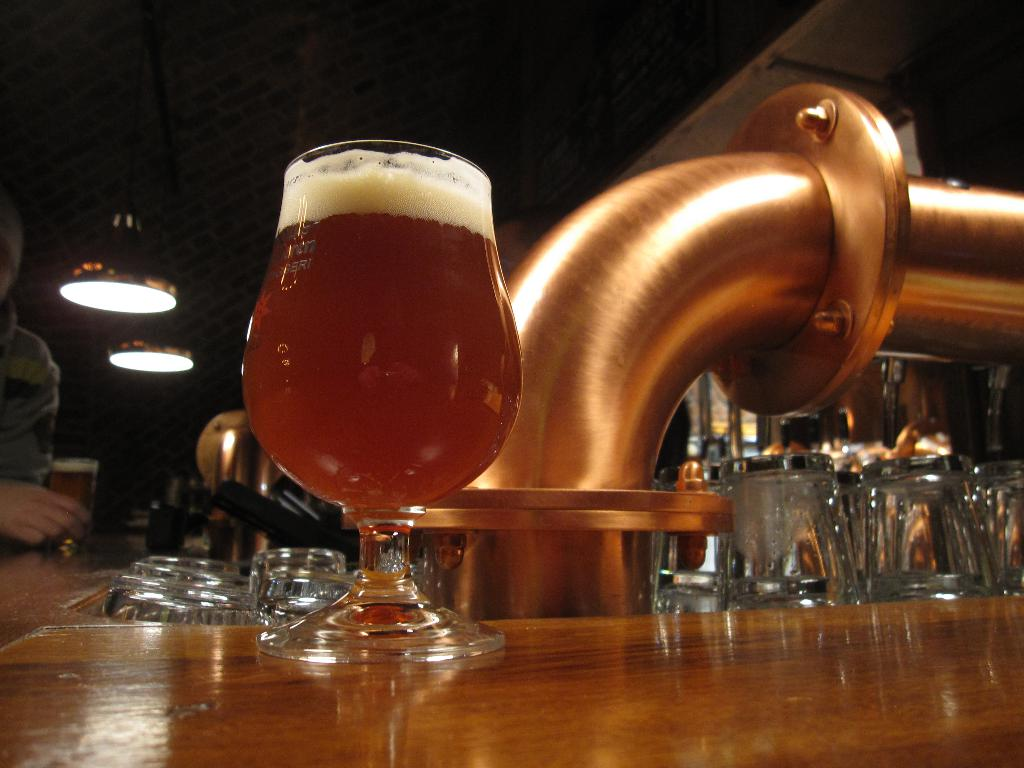Beer: (238, 144, 520, 510)
